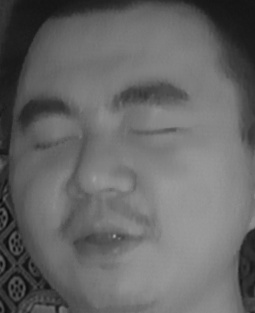blink: (127, 113, 183, 148), (34, 124, 78, 156)
mouth: (60, 205, 150, 270)
